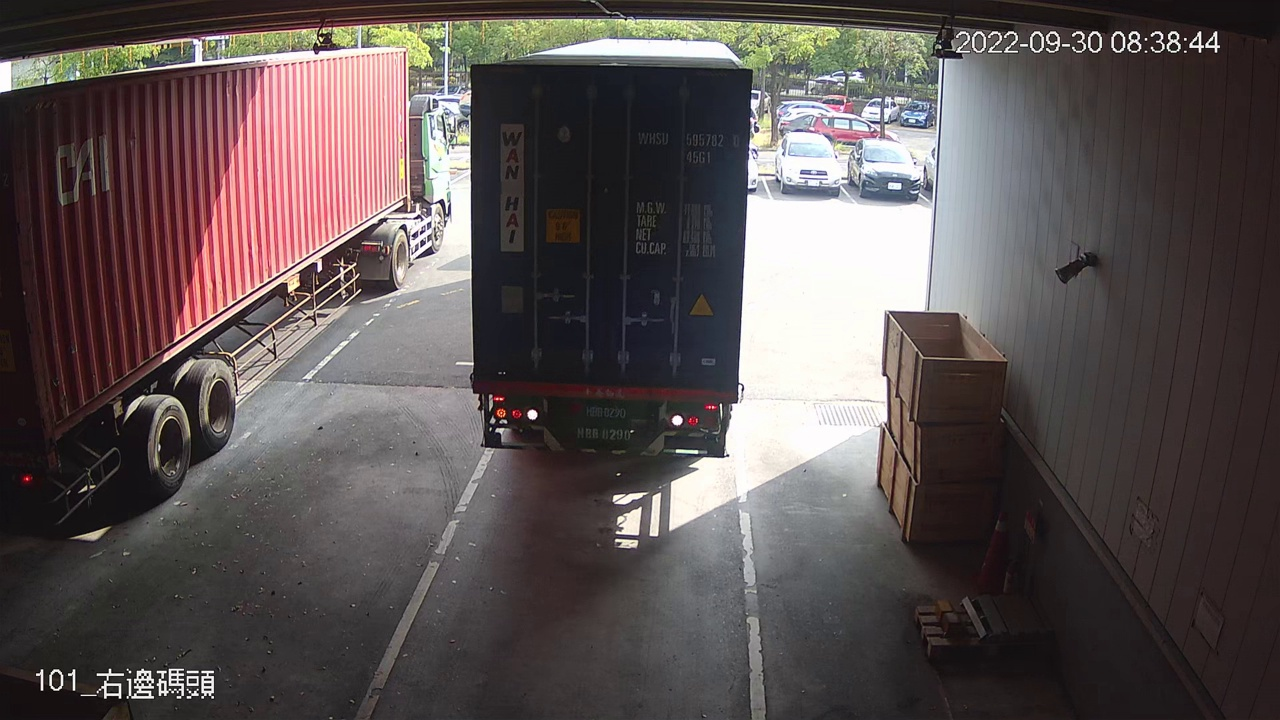container: (633, 126, 747, 171)
